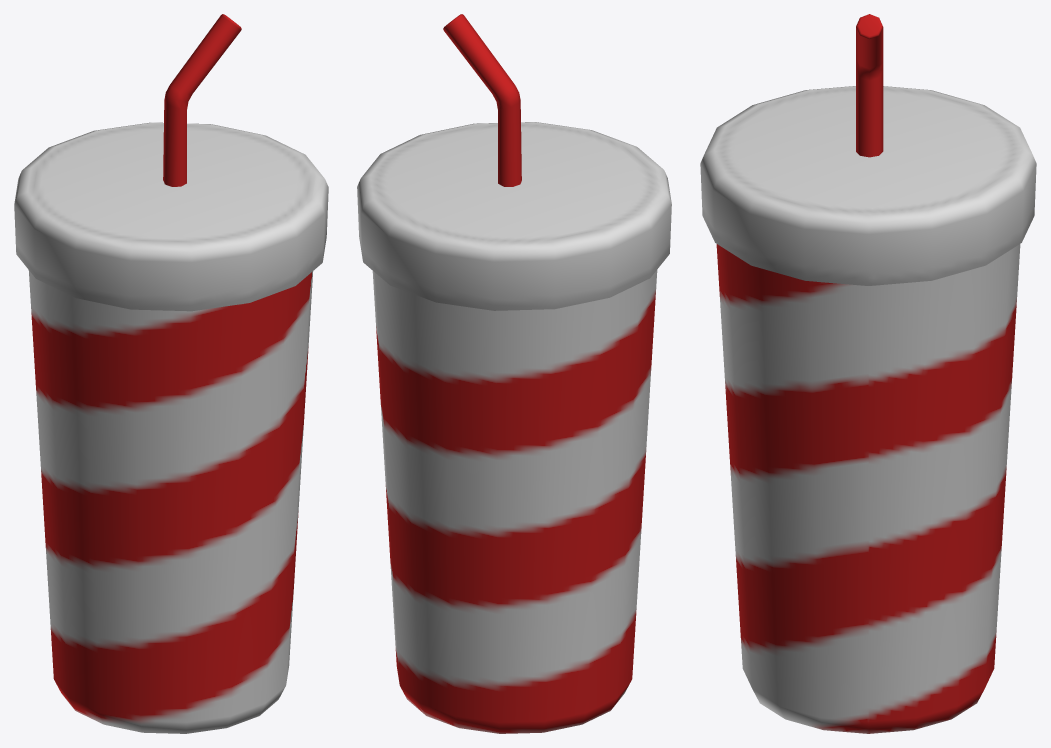
Rendered from coca.fbx.
3 views of the same model, side by side, from view 1: azimuth 30°, elevation 25°; view 2: azimuth 150°, elevation 25°; view 3: azimuth 270°, elevation 25° (orthographic). The views are drawn at different scales.
Visible parts, largest first — view 1: coca; view 2: coca; view 3: coca.
Part boxes in pixels (x1,y1,x2,y2): coca: [14, 14, 328, 733]; coca: [357, 14, 671, 733]; coca: [700, 14, 1036, 733].
Bounding box in the file's own units: 11.28 × 26.08 × 11.28.
